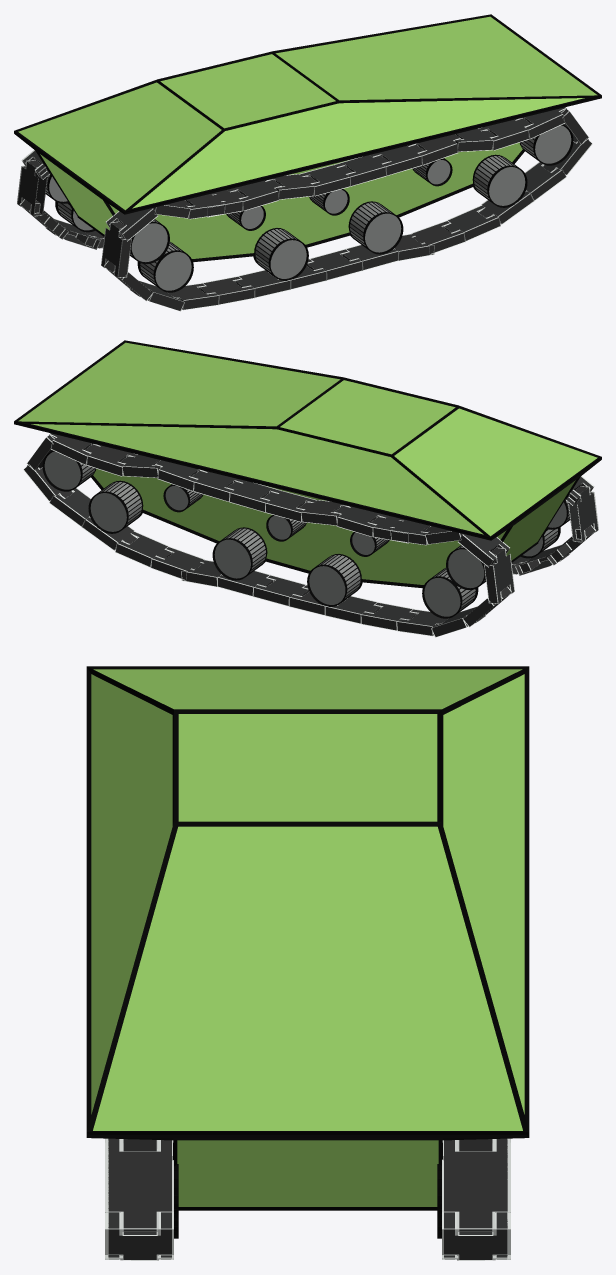
Rendered from TankBot.fbx.
The picture shows the model from 3 angles, top to bottom: view 1: azimuth 30°, elevation 25°; view 2: azimuth 150°, elevation 25°; view 3: azimuth 270°, elevation 25°; orthographic projection. The views are drawn at different scales.
Parts seen in each view (by area): view 1: Bot; view 2: Bot; view 3: Bot.
Boxes of the visible parts, x1,y1,x2,y2 form: Bot: (14,14,601,311); Bot: (14,340,601,637); Bot: (86,666,529,1260).
Bounding box in the file's own units: 836 × 268 × 334.
